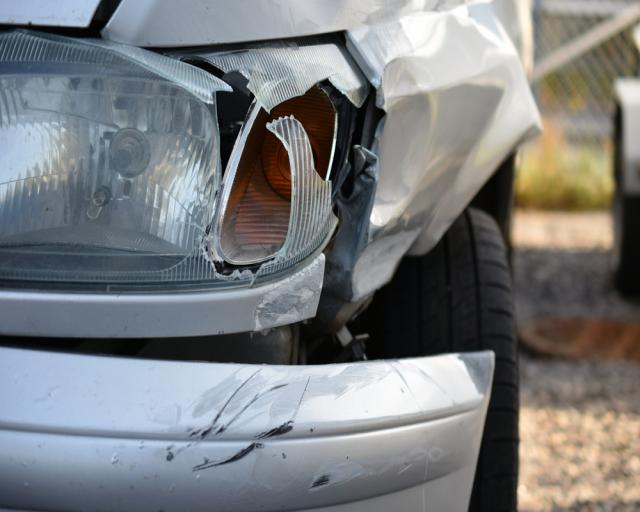dent: (375, 22, 507, 225)
lamp broken: (0, 32, 369, 289)
scratch: (158, 359, 458, 496), (248, 257, 325, 333)
